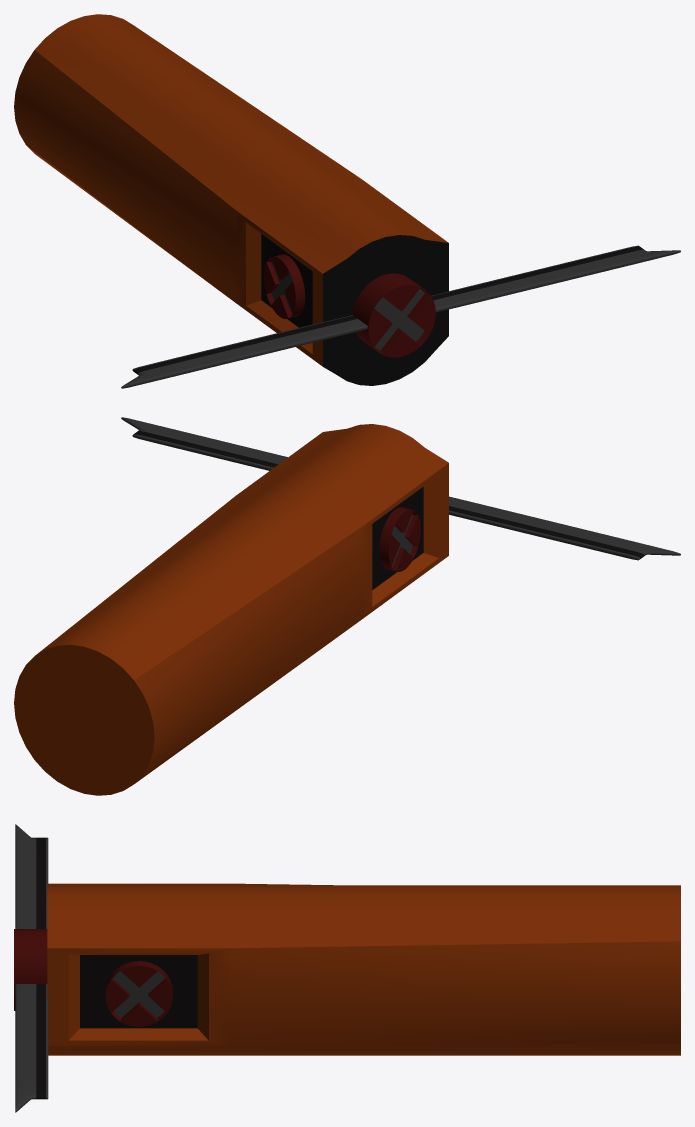
The model's file is Cutting_Part_1_revised.fbx.
3 views of the same model, one above another, from view 1: azimuth 30°, elevation 25°; view 2: azimuth 150°, elevation 25°; view 3: azimuth 270°, elevation 25° (orthographic). The views are drawn at different scales.
Parts seen in each view (by area): view 1: Cylinder, Group002, knife; view 2: Cylinder, knife, Group002; view 3: Cylinder, Group002, knife.
Boxes of the visible parts, x1,y1,x2,y2 form: Cylinder: (14,14,448,385); Group002: (352,245,680,357); knife: (121,315,367,388); Cylinder: (14,424,448,795); knife: (448,496,680,560); Group002: (121,417,287,470); Cylinder: (47,883,680,1055); Group002: (14,929,48,1112); knife: (15,824,48,928).
Size of the model in its own units: 1055 by 265 by 1037.
